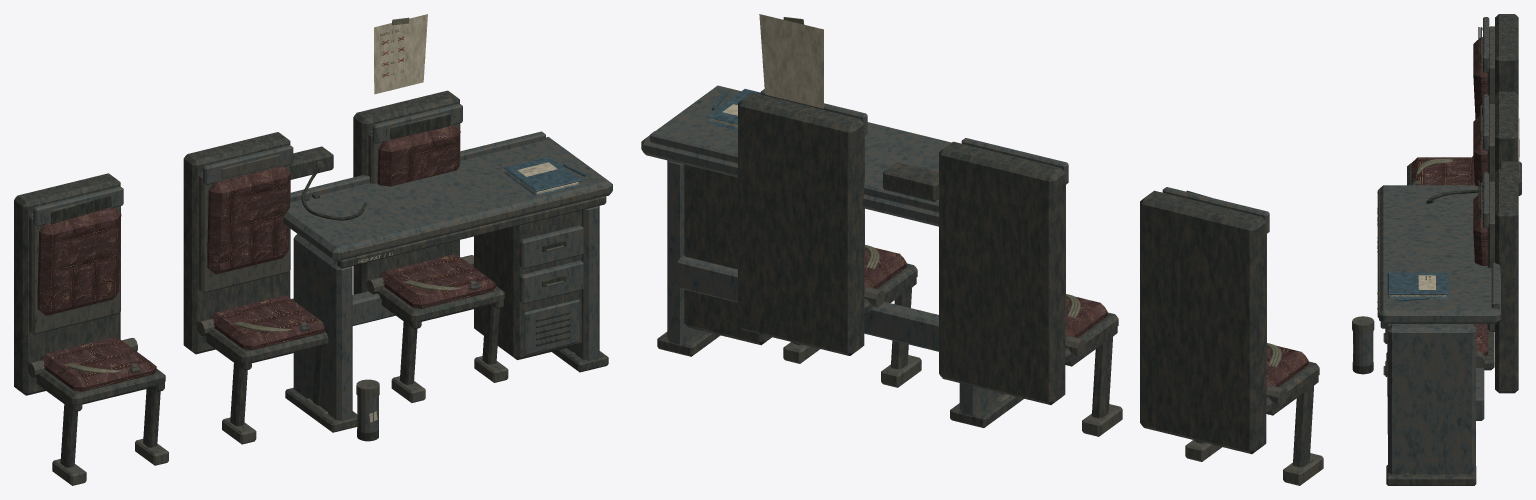
File: crew_equipment.glb
3 views of the same model, side by side, from view 1: azimuth 30°, elevation 25°; view 2: azimuth 150°, elevation 25°; view 3: azimuth 270°, elevation 25° (orthographic). The views are drawn at different scales.
Visible parts, largest first — view 1: CrewSeatsMesh, RadioDeskMesh, DeskDetailsMesh, WatchScheduleMesh; view 2: CrewSeatsMesh, RadioDeskMesh, WatchScheduleMesh, DeskDetailsMesh; view 3: RadioDeskMesh, CrewSeatsMesh, DeskDetailsMesh.
Part boxes in pixels (left/top/right/bottom): CrewSeatsMesh: left=14, top=90, right=508, bottom=485; RadioDeskMesh: left=283, top=131, right=612, bottom=432; DeskDetailsMesh: left=301, top=157, right=586, bottom=441; WatchScheduleMesh: left=374, top=14, right=427, bottom=94; CrewSeatsMesh: left=738, top=89, right=1323, bottom=485; RadioDeskMesh: left=641, top=85, right=1023, bottom=427; WatchScheduleMesh: left=759, top=14, right=823, bottom=108; DeskDetailsMesh: left=707, top=89, right=938, bottom=199; RadioDeskMesh: left=1377, top=161, right=1521, bottom=485; CrewSeatsMesh: left=1407, top=14, right=1518, bottom=393; DeskDetailsMesh: left=1352, top=189, right=1482, bottom=374.
Bounding box in the file's own units: 2.82 × 1.68 × 0.831.
23 materials, 23 textured.
